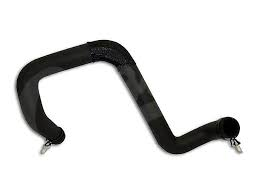radiator_hose: (18, 40, 240, 154)
